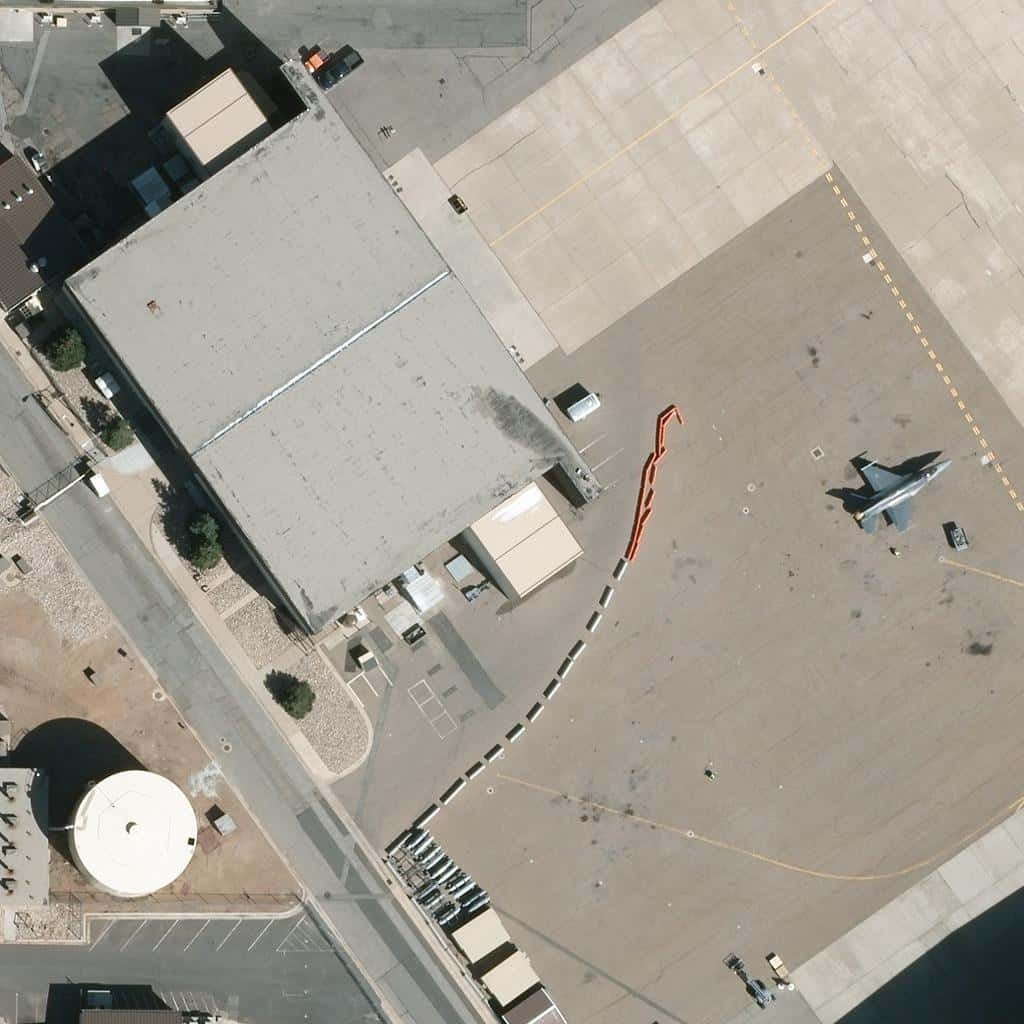plane: (842, 459, 950, 538)
